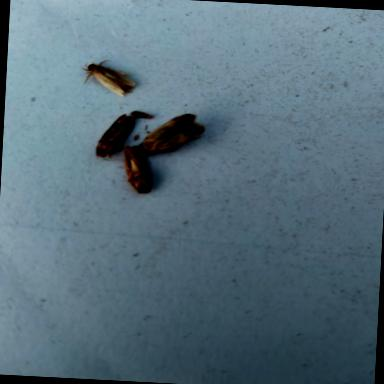pbw: (138, 110, 206, 157), (80, 57, 140, 96), (94, 110, 135, 158), (122, 146, 152, 192)
